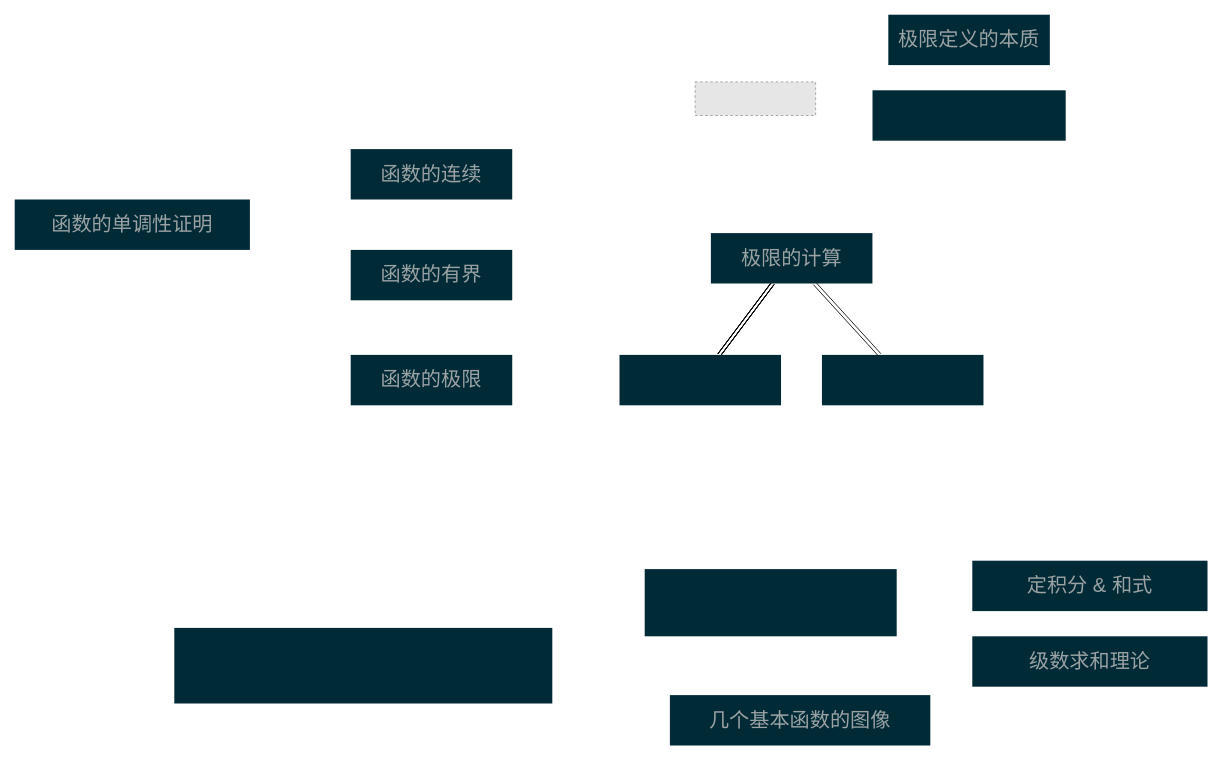
Some shapes in this 1221 by 759 pixel diagram are drawn without their labels. Grey dashed boxes stand in for pictures. The shapes that lost their labels are listed below. From the top down, each one's box as (x1, y1, x2, y2) in pixels, then its label:
(872, 90, 1065, 140): 函数极限的三个性质
(619, 354, 781, 405): 函数极限的计算
(822, 354, 983, 405): 数列极限的计算
(644, 569, 896, 636): 洛必达法则的使用条件
(174, 627, 552, 703): 七种类型的函数极限 0/0 Inf / Inf 0*Inf Inf-Inf Inf^0 0^0 1^Inf
